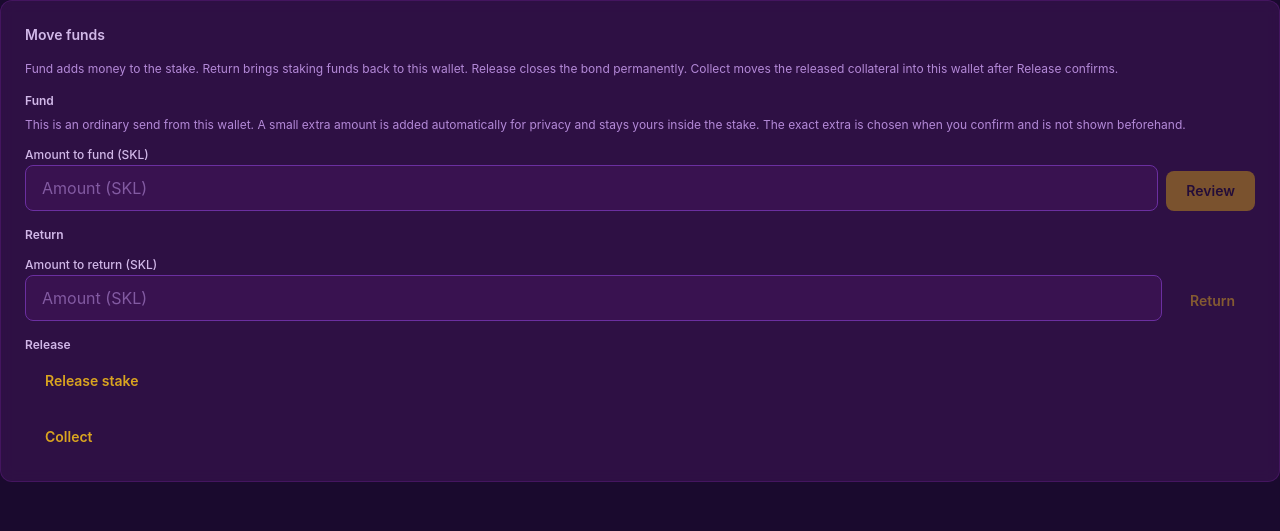
Test: StakeActions fund reservation › does not claim the review was rebuilt when the new one fails
Type "1" into the field with placeholder "Amount (SKL)". click: (592, 188)
box: top-left (25, 165), bottom-right (1158, 211)
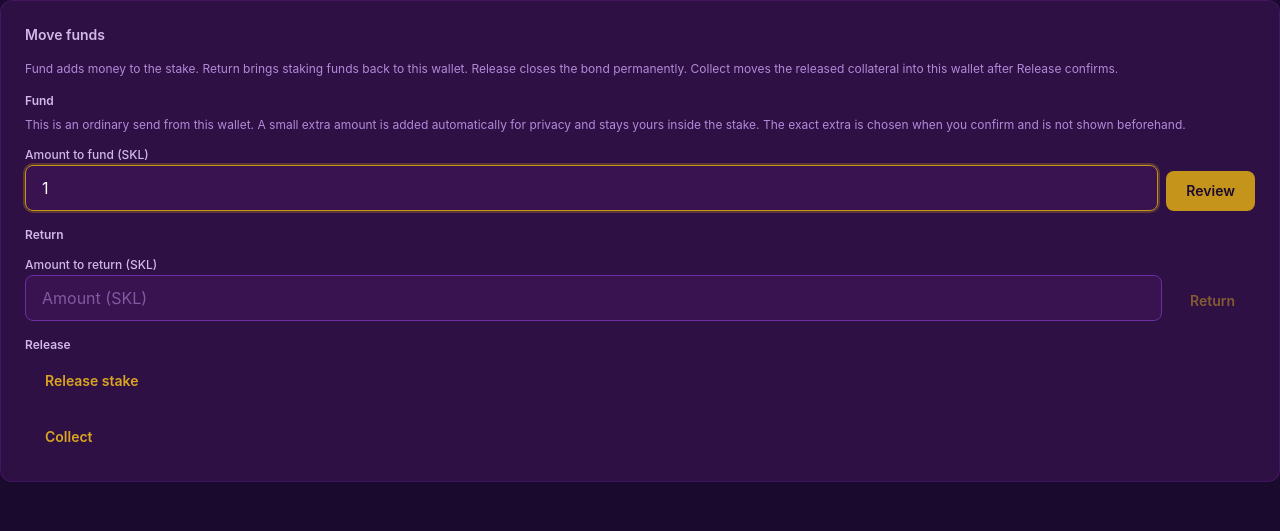
Click the button "Review". click: (1211, 191)
box: top-left (1166, 171), bottom-right (1255, 211)
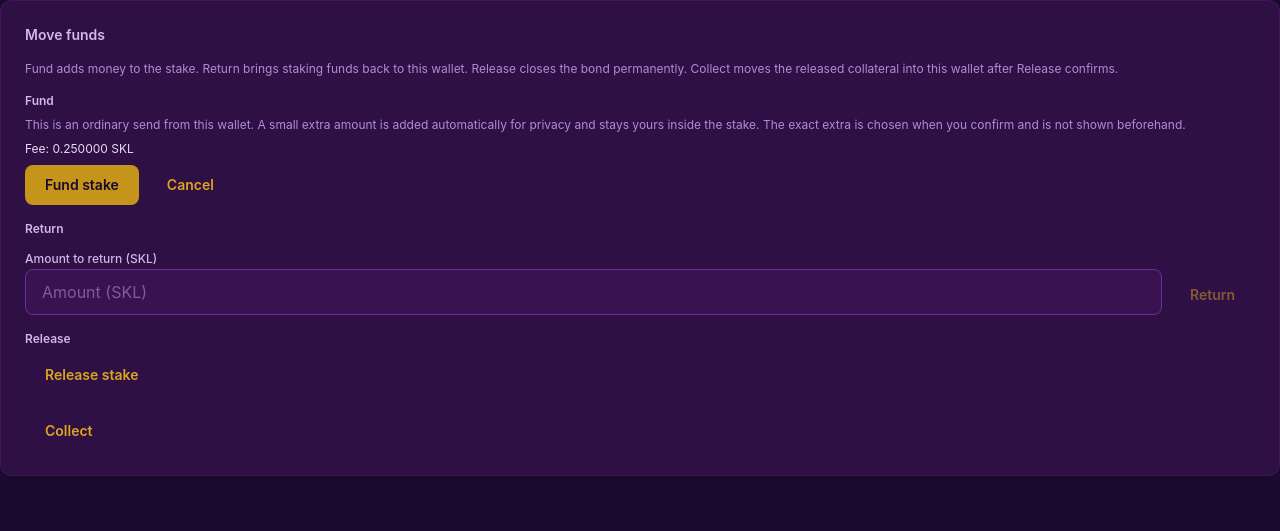
expect the text "Fee: 0.250000 SKL" is shown: met, box top-left (25, 141), bottom-right (134, 156)
Click the button "Fund stake". click: (82, 185)
box: top-left (25, 165), bottom-right (139, 205)
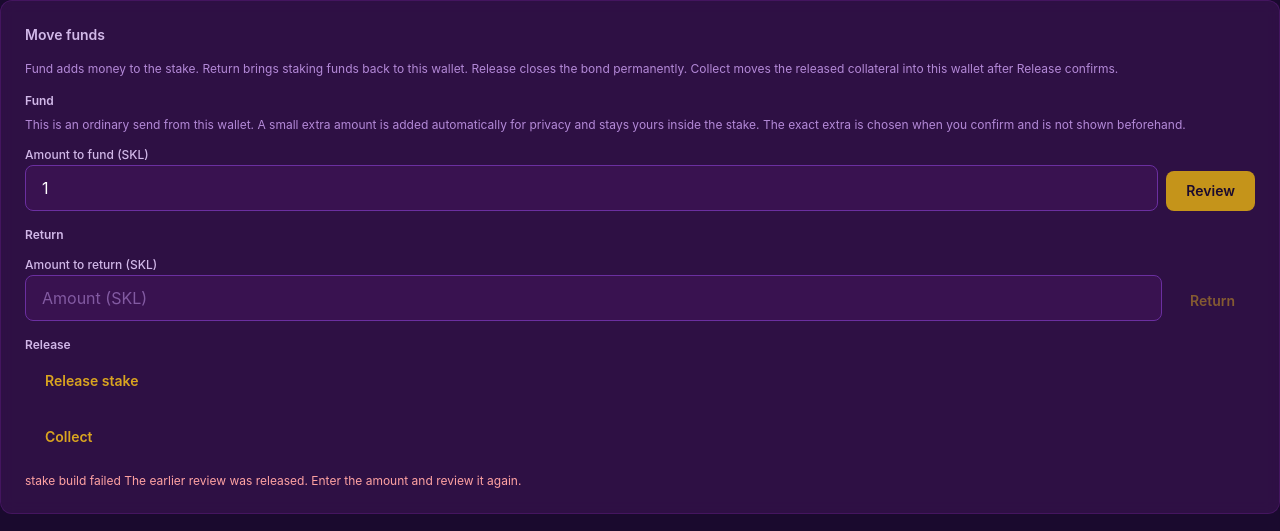
expect the text "The earlier review was released" shows "stake build failed": met, box top-left (25, 473), bottom-right (521, 488)
expect the button "Fund stake" is gone: met
